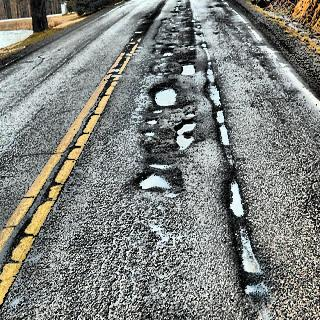pothole: (203, 41, 291, 301), (141, 45, 200, 220)
